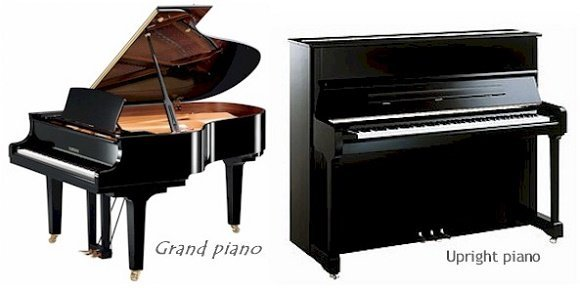GrandPiano: (286, 6, 572, 279), (17, 2, 273, 267)
